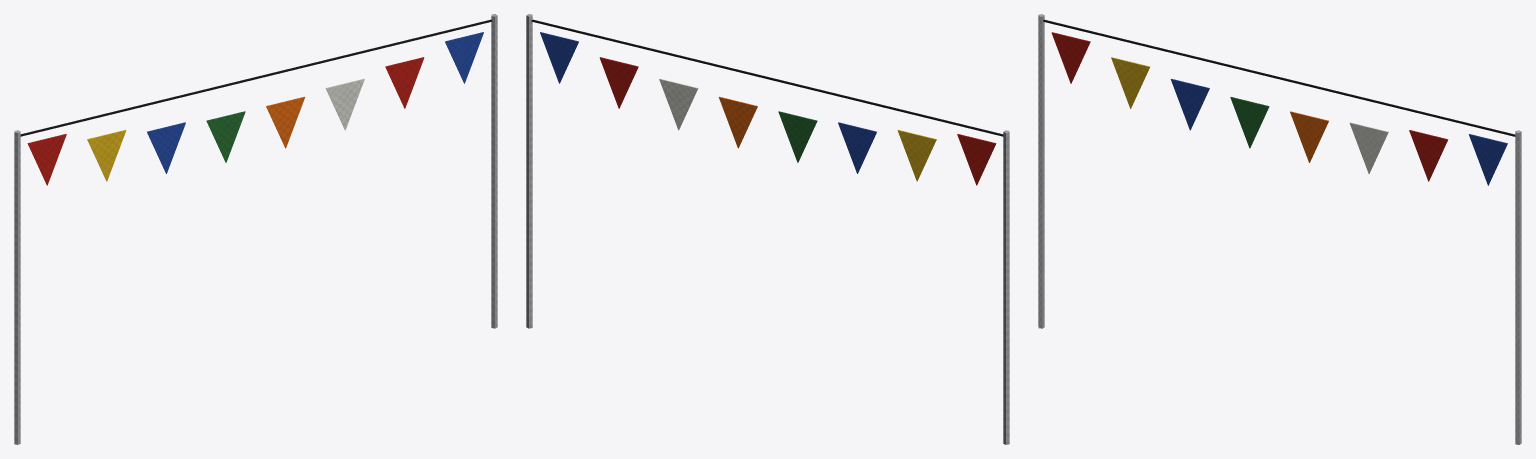
Rendered from bandeirolas.glb.
The picture shows the model from 3 angles, left to right: view 1: azimuth 30°, elevation 25°; view 2: azimuth 150°, elevation 25°; view 3: azimuth 330°, elevation 25°; orthographic projection.
Parts seen in each view (by area): view 1: Inteiro, Peca_02, Peca_00, Peca_01, Peca_04; view 2: Inteiro, Peca_02, Peca_01, Peca_00, Peca_04; view 3: Inteiro, Peca_02, Peca_03, Peca_04.
Boxes of the visible parts, <box> form: Inteiro: <box>14,14,497,444</box>; Peca_02: <box>20,19,491,183</box>; Peca_00: <box>14,130,20,444</box>; Peca_01: <box>491,14,496,328</box>; Peca_04: <box>385,35,478,108</box>; Inteiro: <box>526,14,1009,444</box>; Peca_02: <box>532,19,1003,181</box>; Peca_01: <box>526,14,532,328</box>; Peca_00: <box>1005,130,1009,444</box>; Peca_04: <box>540,33,633,107</box>; Inteiro: <box>1038,14,1521,444</box>; Peca_02: <box>1043,19,1515,136</box>; Peca_03: <box>1232,98,1388,172</box>; Peca_04: <box>1409,130,1507,185</box>.
Bounding box in the file's own units: 3.24 × 2 × 0.038.
Materials: 1 (1 with a texture image).
